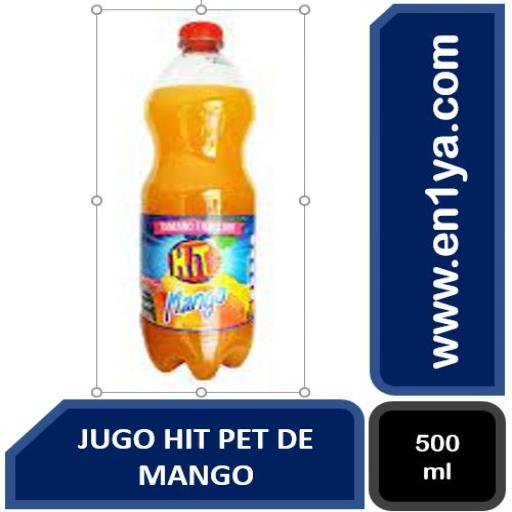JugoHM: (96, 8, 302, 390)
